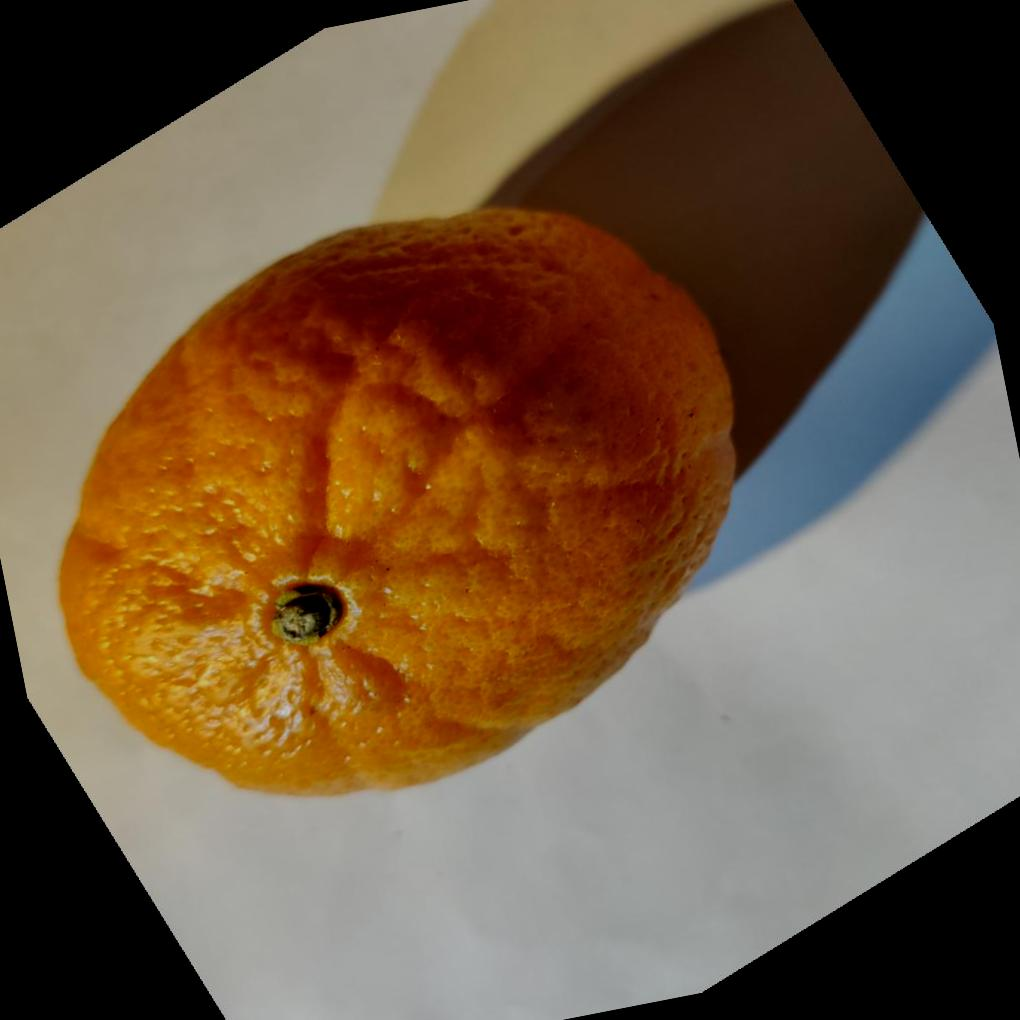FreshGuava: (58, 202, 743, 799)
